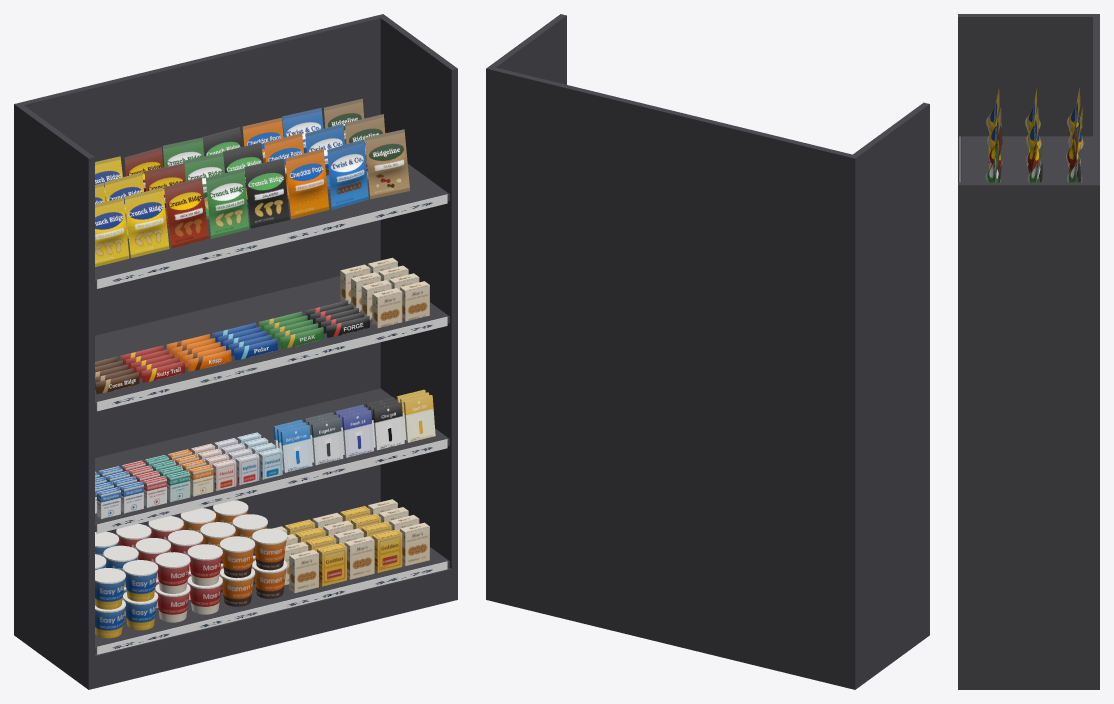
Rendered from hotel-market-shelf.glb.
3 views of the same model, side by side, from view 1: azimuth 30°, elevation 25°; view 2: azimuth 150°, elevation 25°; view 3: azimuth 270°, elevation 25° (orthographic). The views are drawn at different scales.
Parts seen in each view (by area): view 1: dark_laminate, products_0.0, paper_lid; view 2: dark_laminate; view 3: dark_laminate, products_0.0.
Part boxes in pixels (x1=…): dark_laminate: x1=14, y1=14, x2=457, y2=689; products_0.0: x1=95, y1=98, x2=447, y2=654; paper_lid: x1=95, y1=500, x2=287, y2=612; dark_laminate: x1=486, y1=14, x2=929, y2=689; dark_laminate: x1=958, y1=14, x2=1099, y2=689; products_0.0: x1=959, y1=87, x2=1083, y2=182.
Size of the model in its own units: 1.2 by 1.65 by 0.42.
3 materials, 1 textured.
